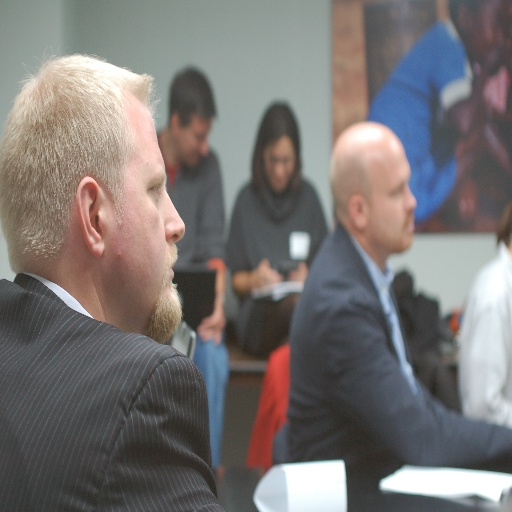hand: (197, 307, 227, 344), (253, 261, 283, 289), (289, 261, 309, 280)
